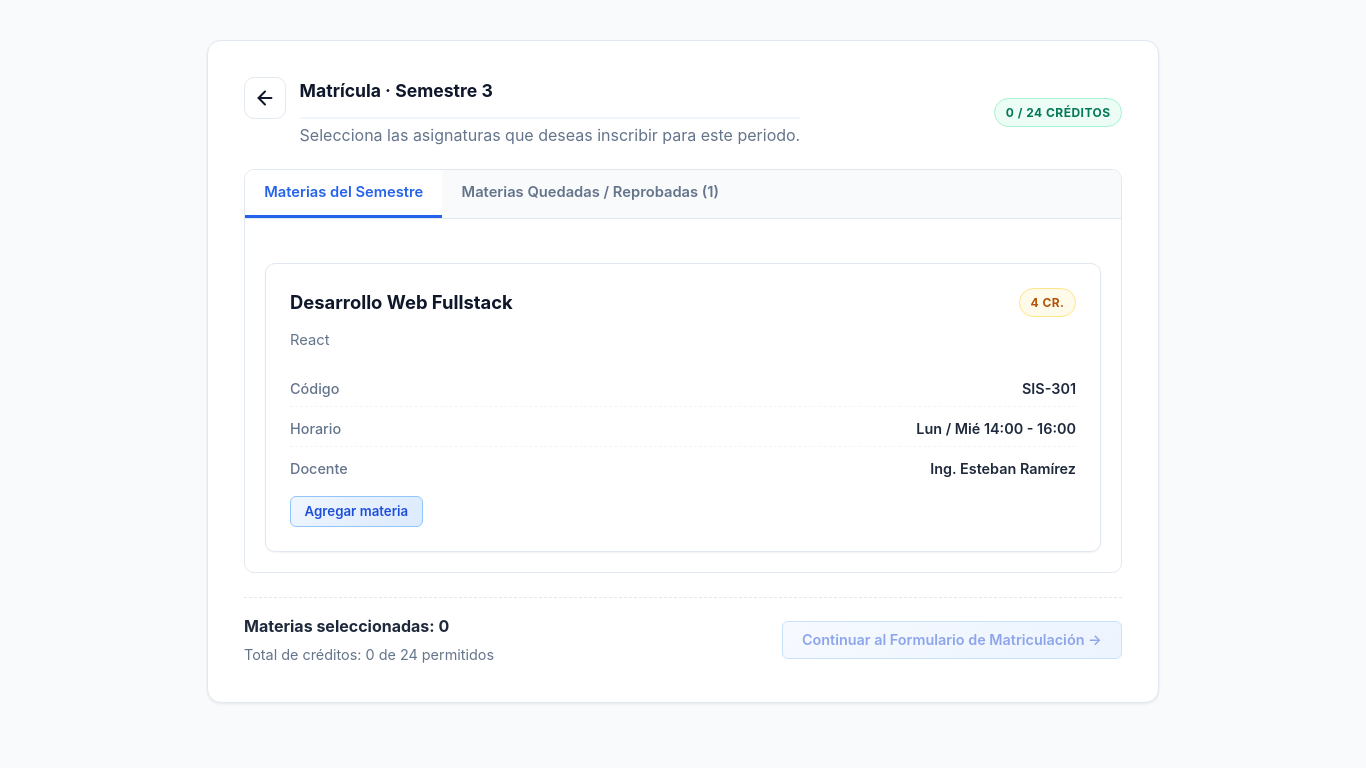
Validación de cruces de horario › bloquea el avance en Matricular cuando el estudiante elige dos materias cruzadas
Agregar mat-7 desde tab 1
Click the button "Agregar materia". click: (356,511)
box: left=290, top=496, right=423, bottom=527
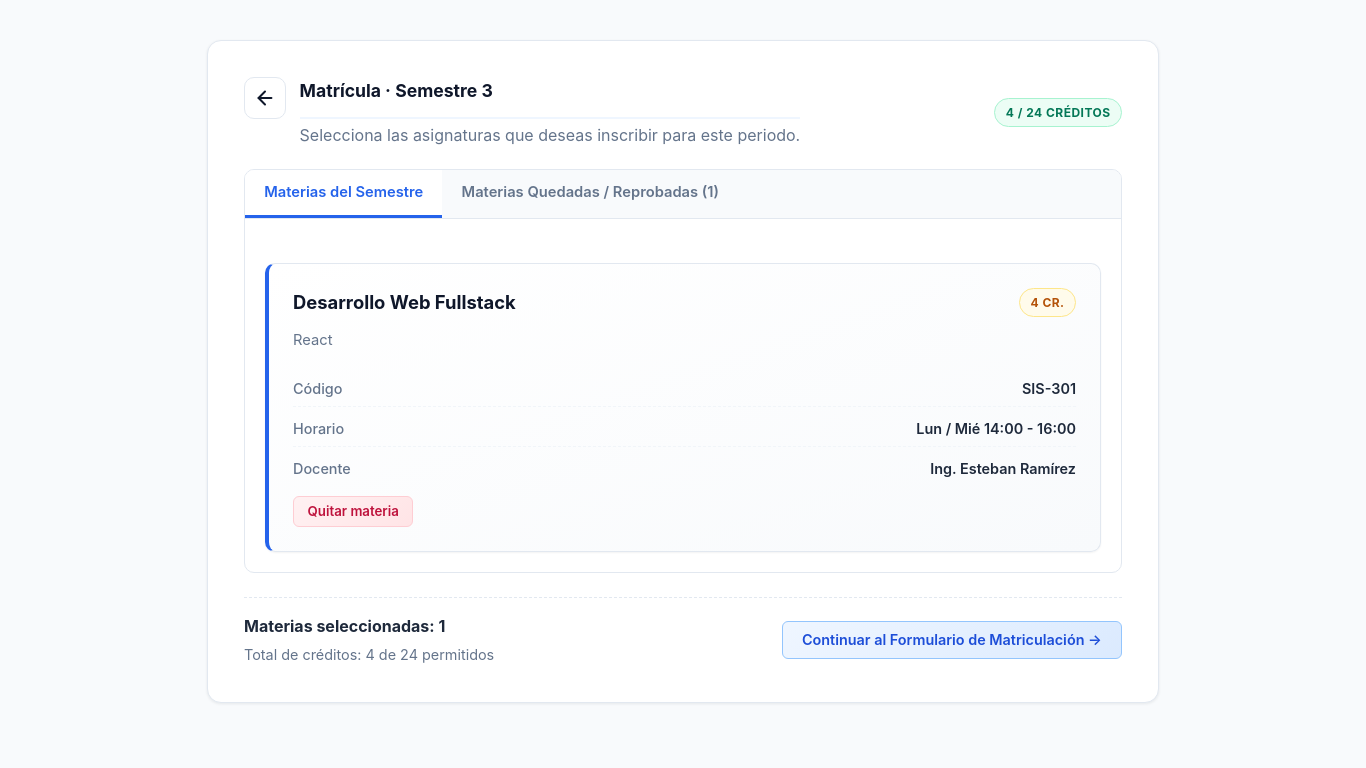
Click the tab "Materias Quedadas / Reprobadas (1)". click: (590,194)
box: left=442, top=170, right=738, bottom=218
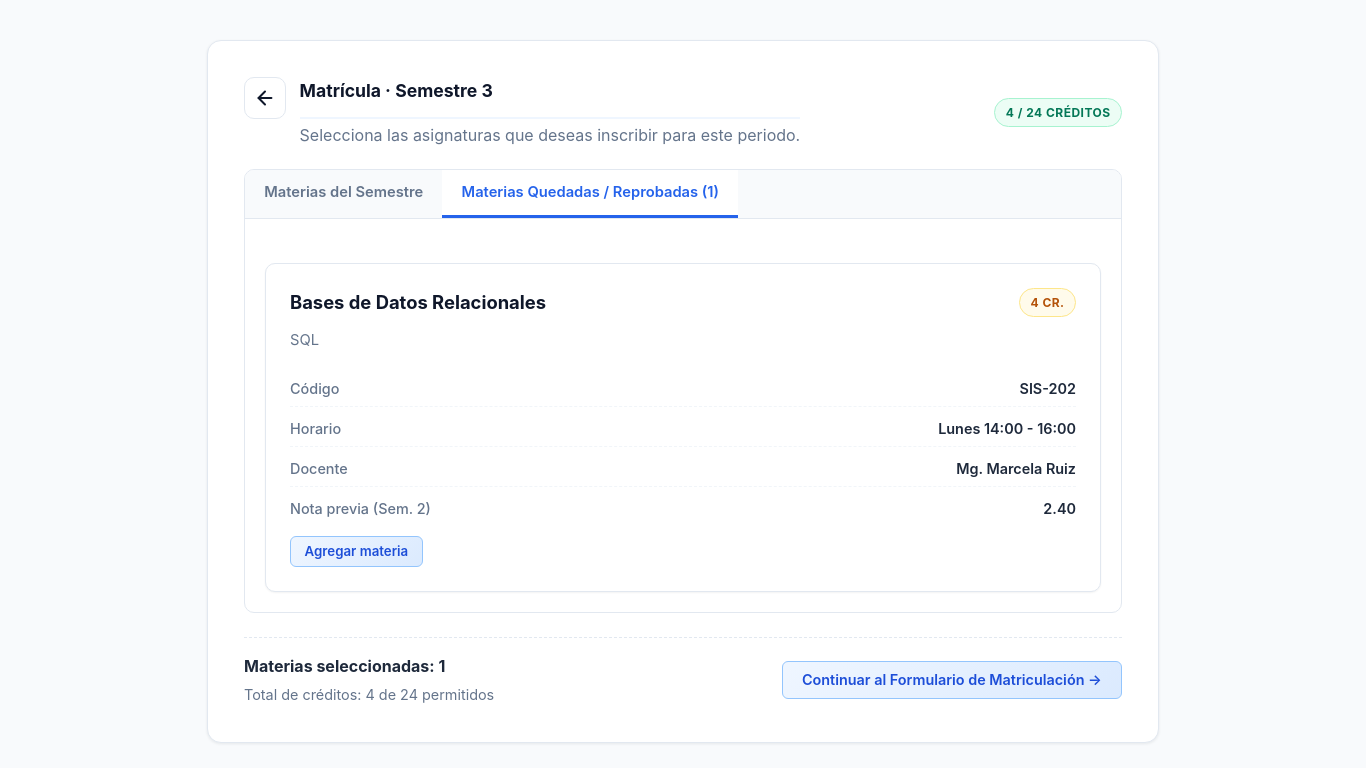
Click the button "Agregar materia". click: (356,551)
box: left=290, top=536, right=423, bottom=567
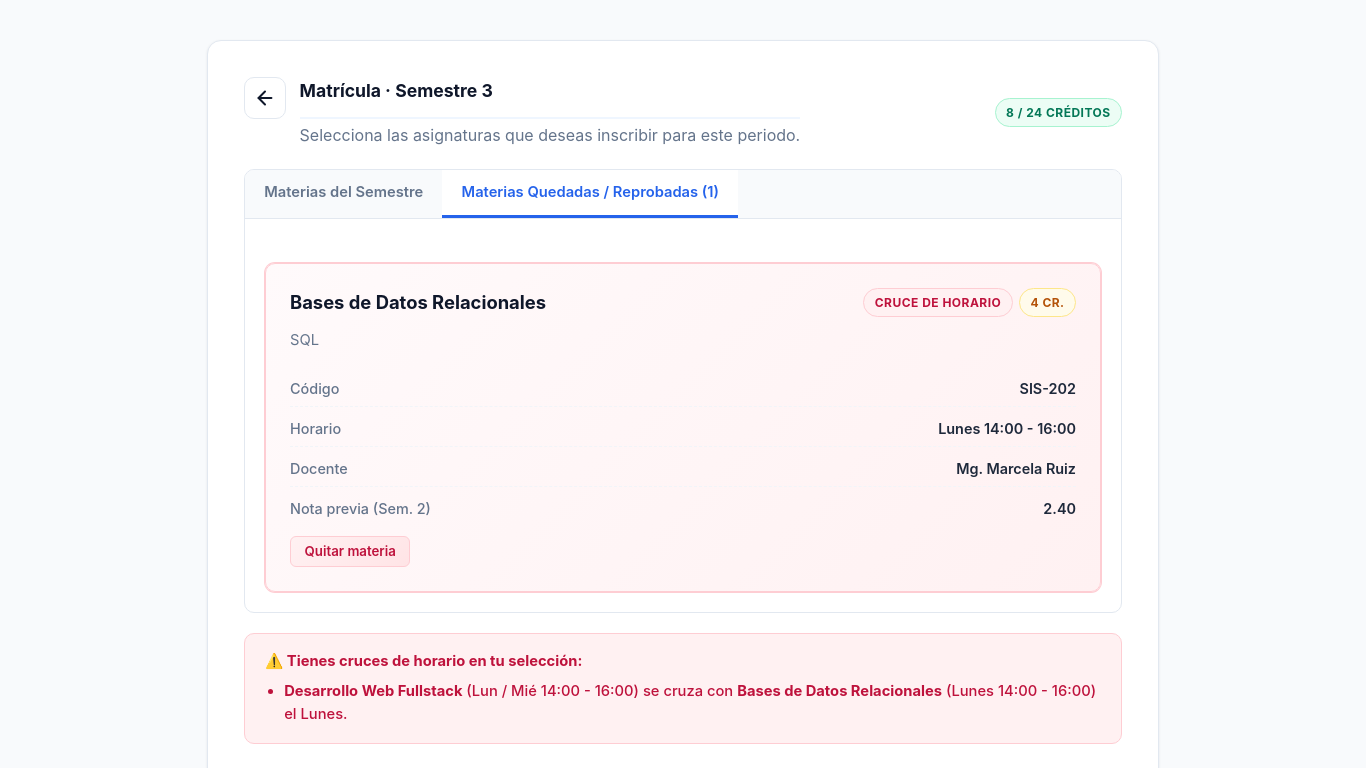
Expected: the text "⚠️ Tienes cruces de horario en tu selección:" is shown, left=265, top=652, right=582, bottom=670
Al quitar la materia en cruce, se habilita nuevamente
Click the button "Quitar materia". click: (350,551)
box: left=290, top=536, right=410, bottom=567
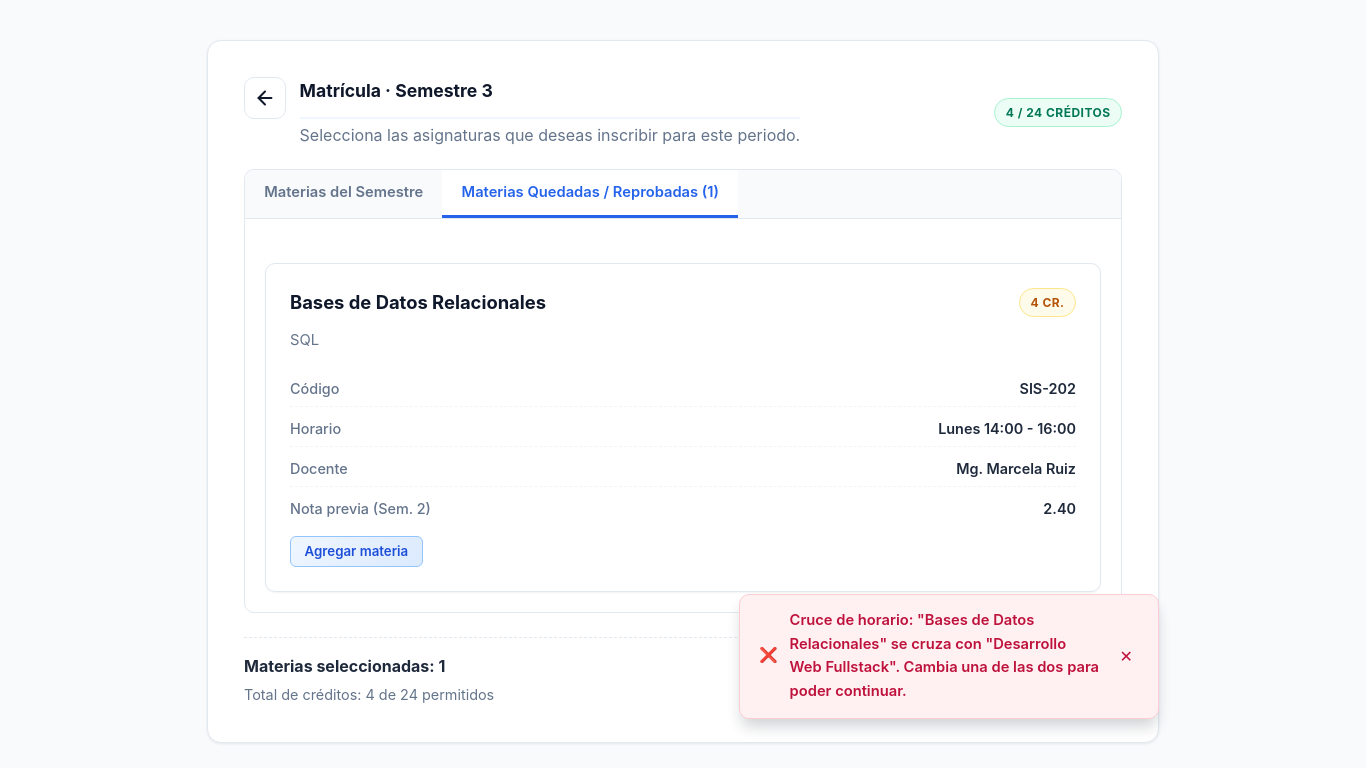
Expected: the button "Continuar al Formulario de Matriculación →" is enabled, left=782, top=661, right=1122, bottom=699
